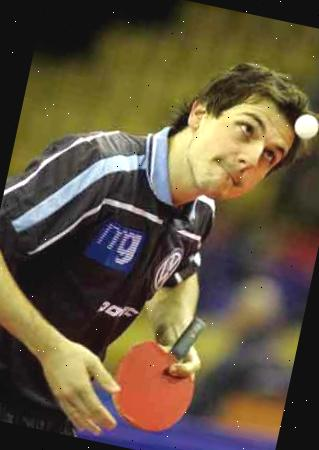ball: (286, 107, 319, 146)
